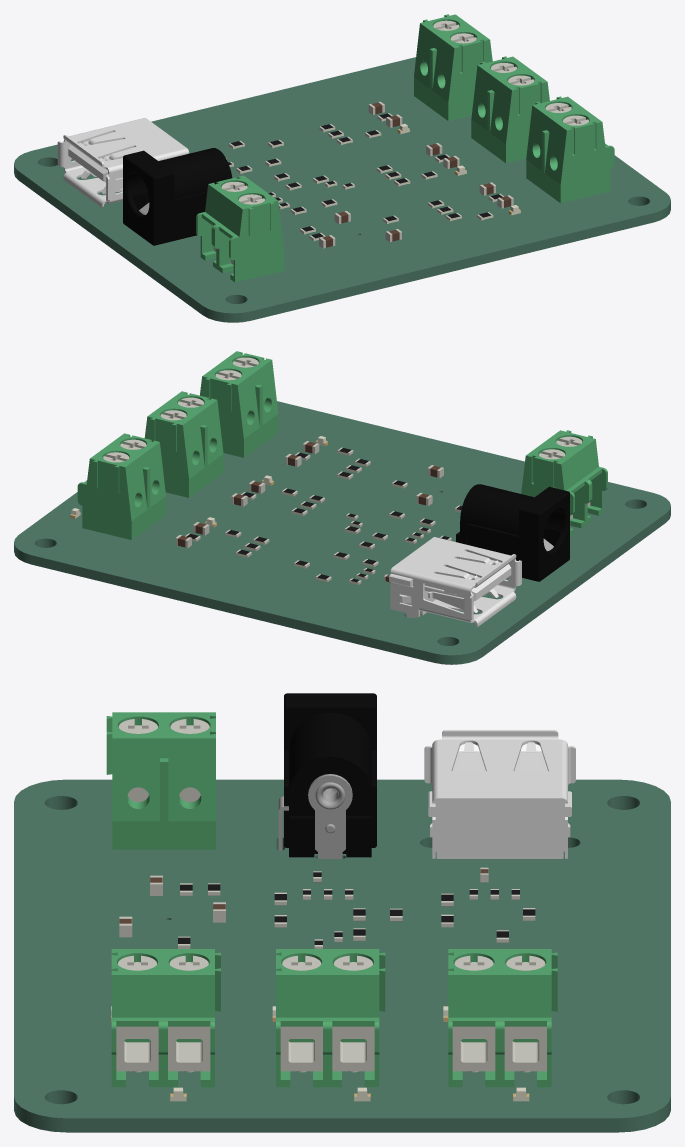
The picture shows the model from 3 angles, top to bottom: view 1: azimuth 30°, elevation 25°; view 2: azimuth 150°, elevation 25°; view 3: azimuth 270°, elevation 25°; orthographic projection. The views are drawn at different scales.
Parts seen in each view (by area): view 1: =>[0:1:1:18], =>[0:1:1:17] (×4), =>[0:1:1:15], =>[0:1:1:3]; view 2: =>[0:1:1:18], =>[0:1:1:17] (×4), =>[0:1:1:3], =>[0:1:1:15]; view 3: =>[0:1:1:18], =>[0:1:1:17] (×4), =>[0:1:1:3], =>[0:1:1:15].
Boxes of the visible parts, x1,y1,x2,y2 form: =>[0:1:1:18]: (14, 57, 670, 322); =>[0:1:1:17] (×4): (196, 14, 614, 282); =>[0:1:1:15]: (123, 148, 232, 245); =>[0:1:1:3]: (57, 118, 189, 207); =>[0:1:1:18]: (14, 401, 670, 664); =>[0:1:1:17] (×4): (77, 351, 607, 539); =>[0:1:1:3]: (389, 537, 521, 626); =>[0:1:1:15]: (456, 484, 569, 581); =>[0:1:1:18]: (14, 779, 670, 1132); =>[0:1:1:17] (×4): (106, 712, 557, 1087); =>[0:1:1:3]: (424, 730, 575, 858); =>[0:1:1:15]: (278, 693, 376, 858).
Bounding box in the file's own units: 0.0775 × 0.0152 × 0.0635.
